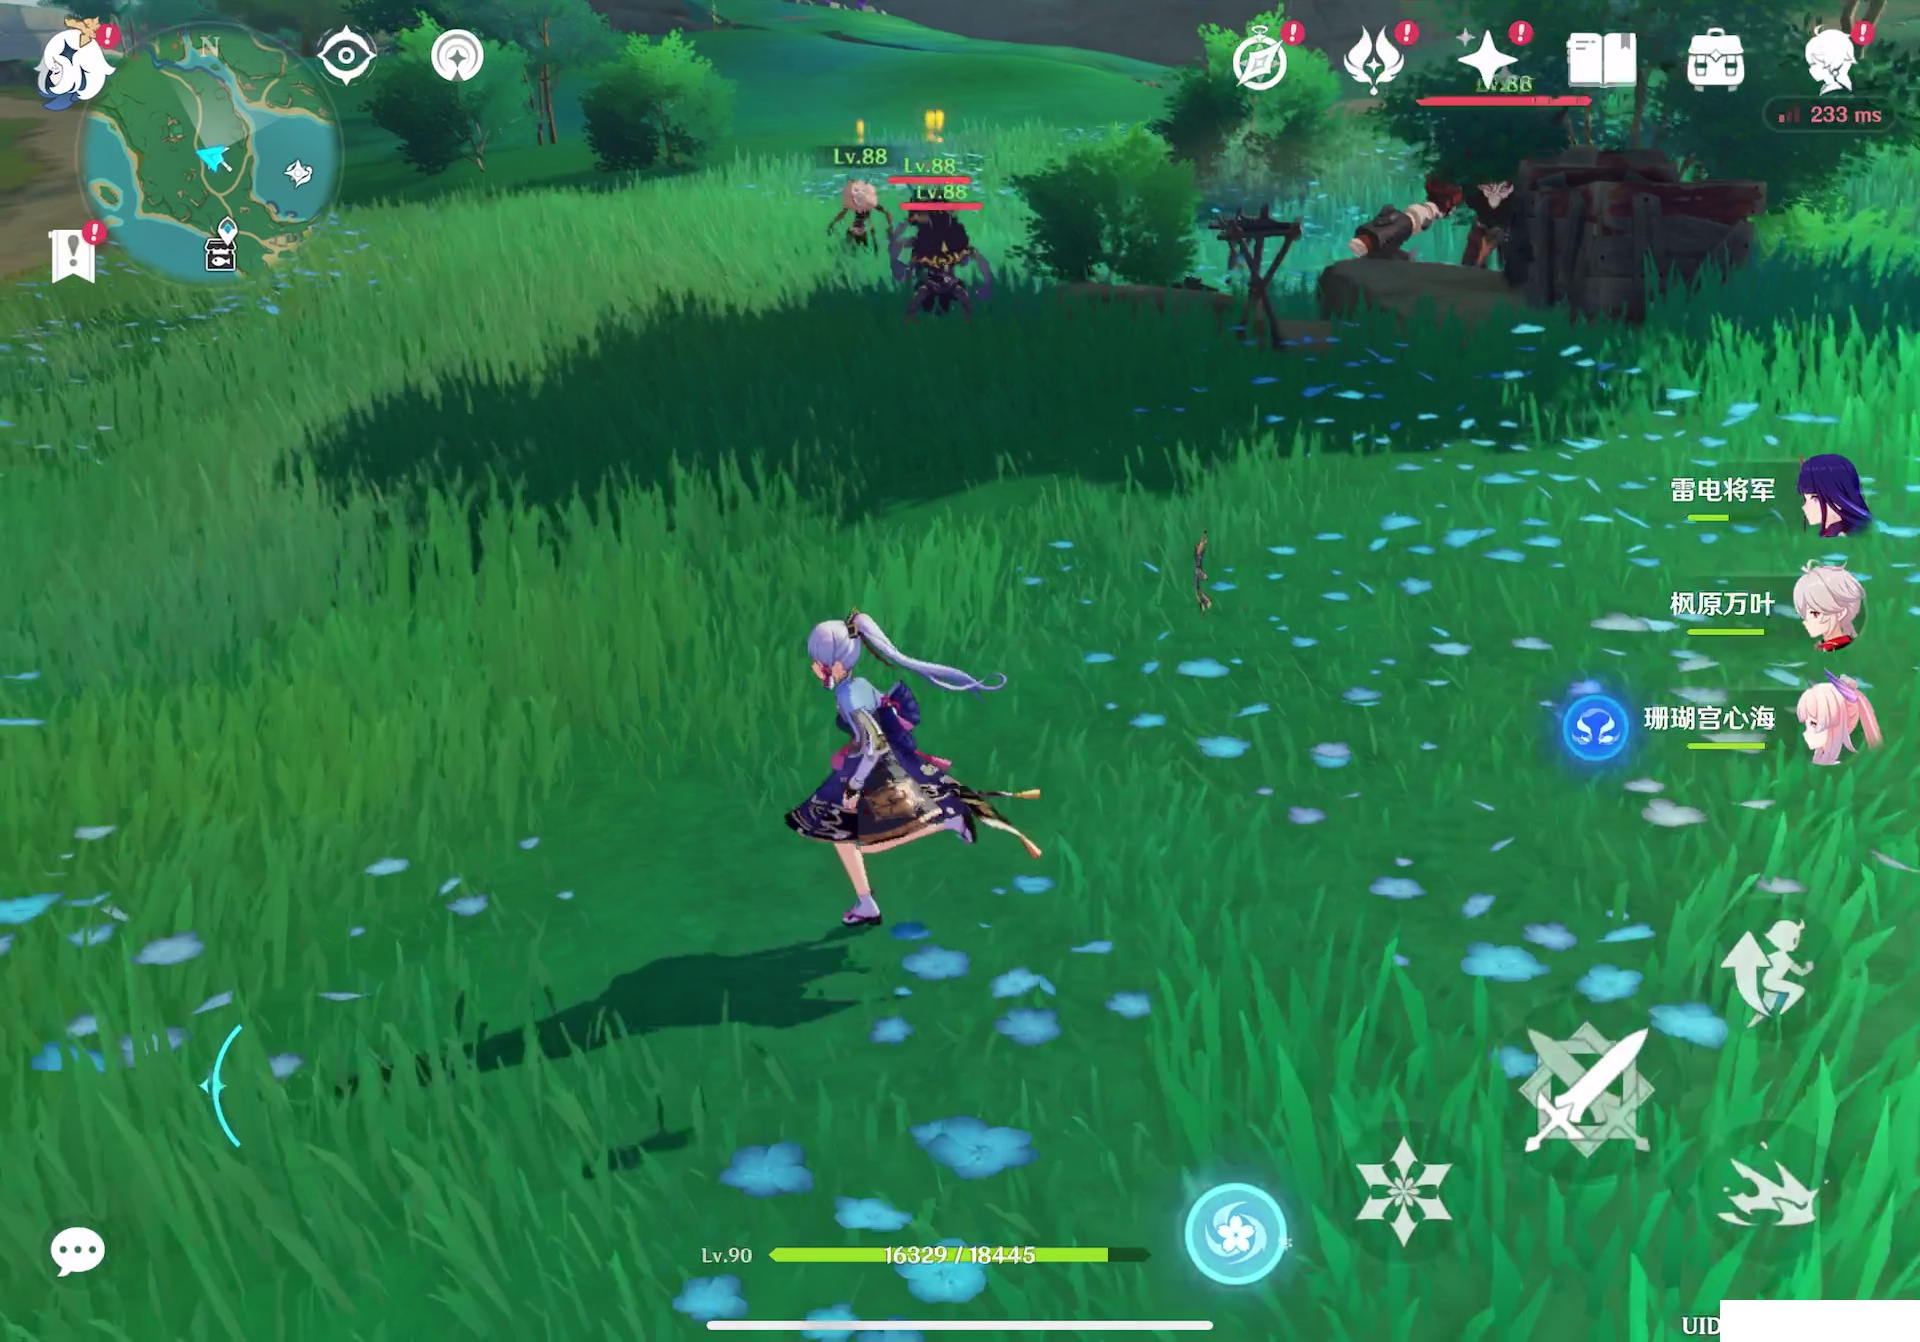丘丘人: (894, 214, 999, 328), (818, 179, 887, 260)
神里绫龟: (756, 586, 1067, 936)
